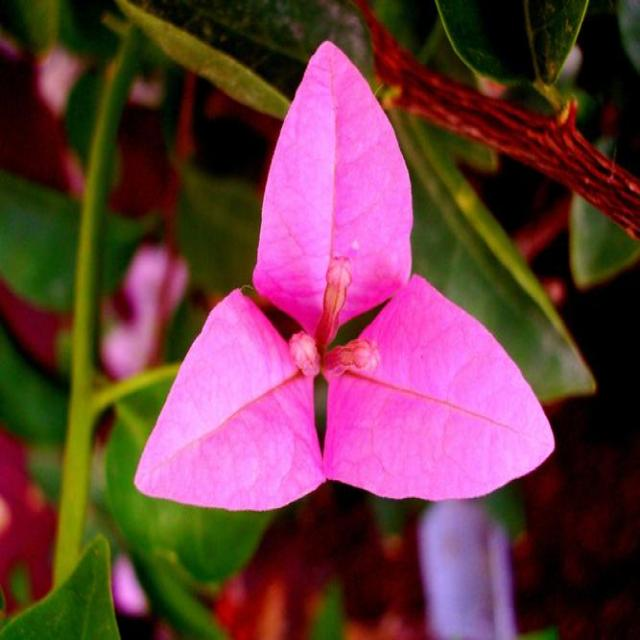bougainvillea: (85, 30, 578, 640)
